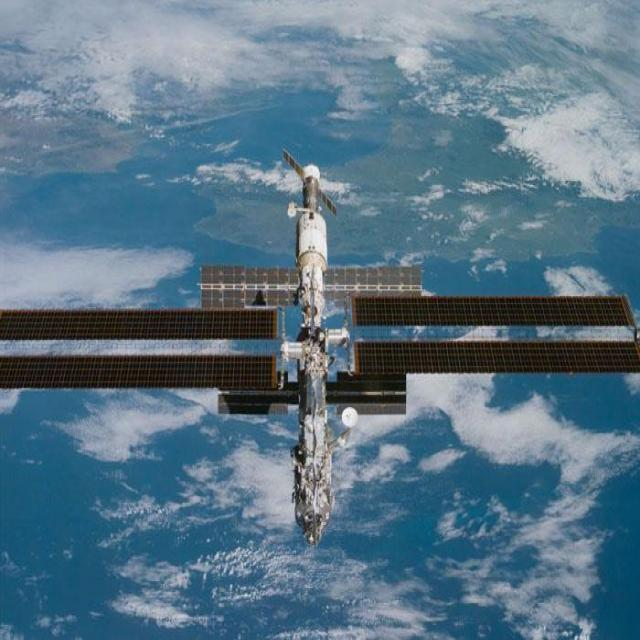satellite: (0, 150, 640, 543)
